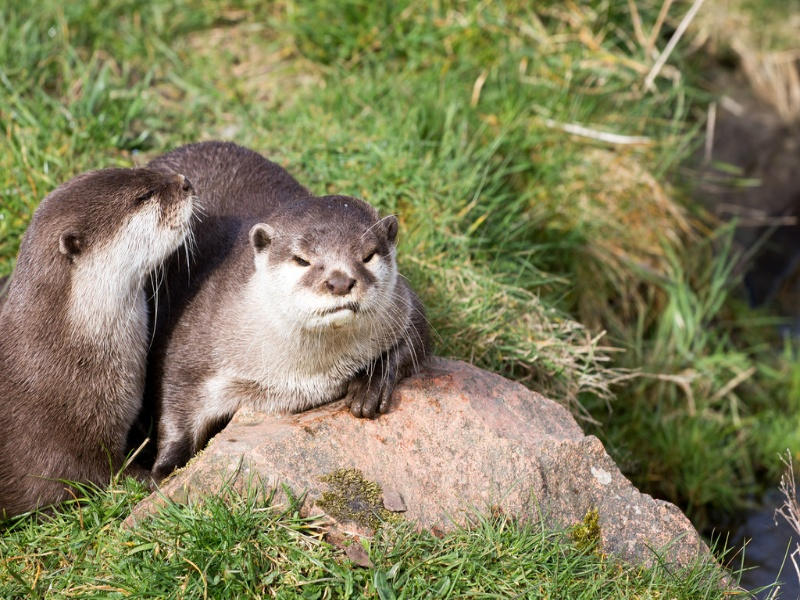minkish: (132, 141, 430, 464), (1, 167, 197, 512)
